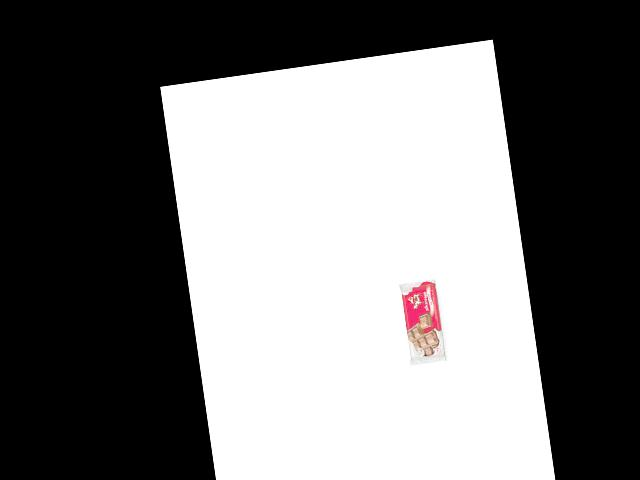chocolate: (398, 278, 447, 368)
